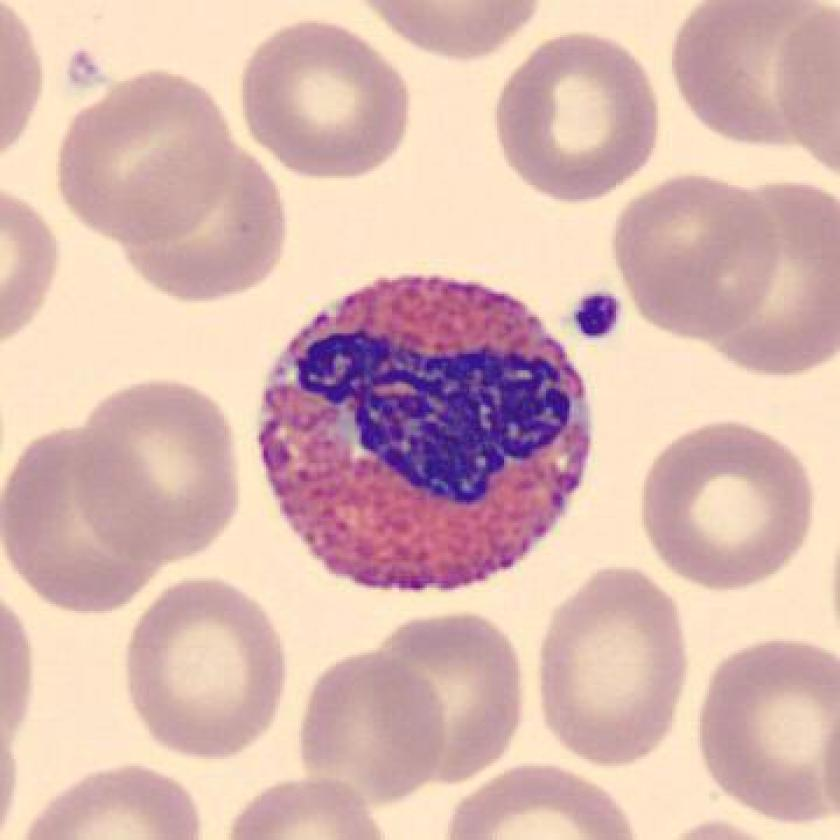eosinophil: (246, 265, 603, 607)
